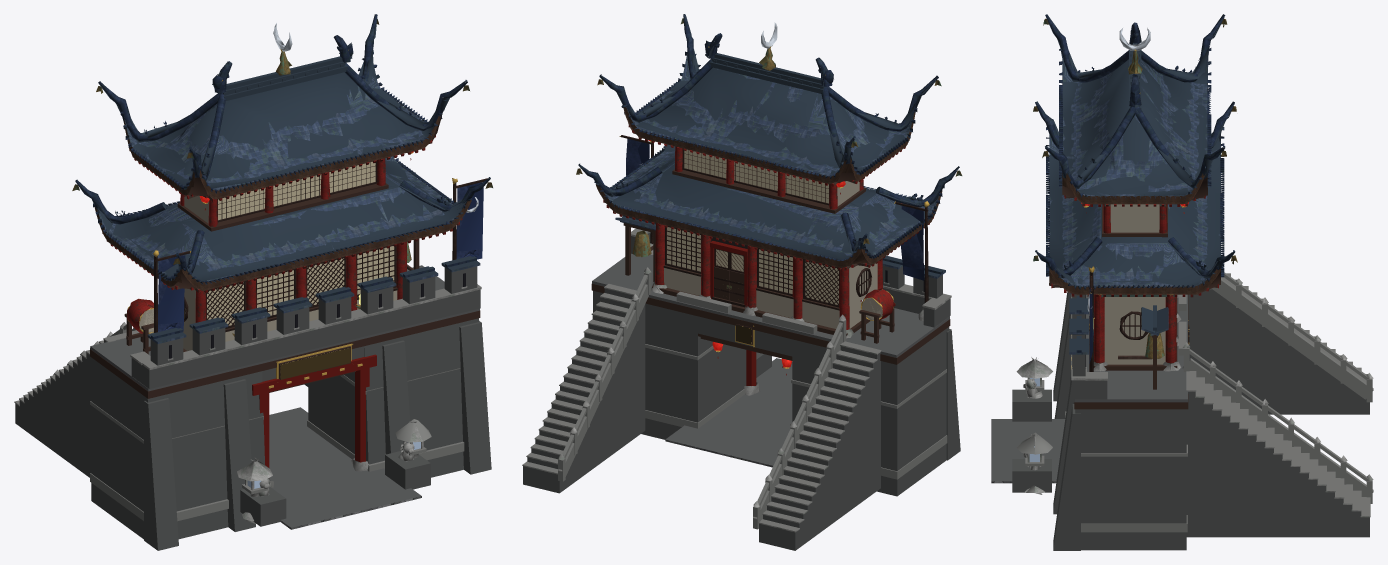
Rendered from fort_battle_gate.gltf.
The picture shows the model from 3 angles, left to right: view 1: azimuth 30°, elevation 25°; view 2: azimuth 150°, elevation 25°; view 3: azimuth 270°, elevation 25°; orthographic projection. The views are drawn at different scales.
Visible parts, largest first — view 1: Far, Near; view 2: Far, Near; view 3: Far, Near.
Boxes of the visible parts, box(x1,y1,x2,y2) form: Far: box(14, 15, 491, 550); Near: box(14, 14, 492, 529); Far: box(522, 14, 960, 550); Near: box(522, 14, 962, 532); Far: box(991, 14, 1373, 550); Near: box(991, 14, 1373, 517).
Bounding box in the file's own units: 15.09 × 18.54 × 14.49.
26 materials, 18 textured.
